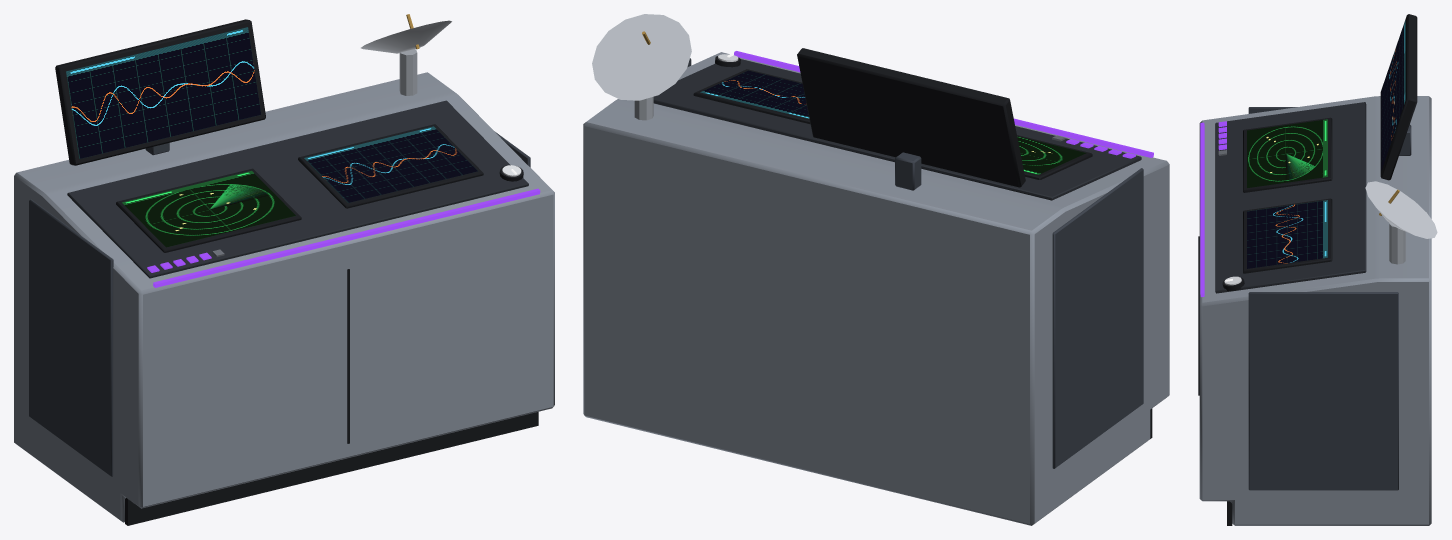
File: console_sensor.glb
3 views of the same model, side by side, from view 1: azimuth 30°, elevation 25°; view 2: azimuth 150°, elevation 25°; view 3: azimuth 270°, elevation 25° (orthographic). The views are drawn at different scales.
Visible parts, largest first — view 1: console_sensor; view 2: console_sensor; view 3: console_sensor.
Part boxes in pixels (x1,y1,x2,y2): console_sensor: (14,14,554,525); console_sensor: (583,14,1169,525); console_sensor: (1198,14,1437,525).
Bounding box in the file's own units: 1.62 × 1.39 × 0.8752.
Materials: 13 (2 with a texture image).
